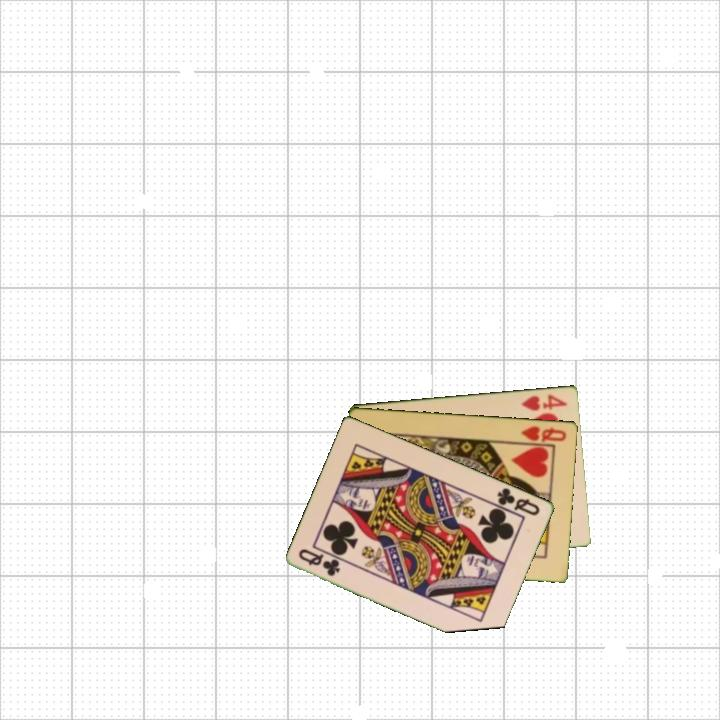4h: (518, 391, 570, 413)
Qc: (493, 484, 543, 519), (295, 545, 343, 579)
Qh: (518, 422, 569, 445)
